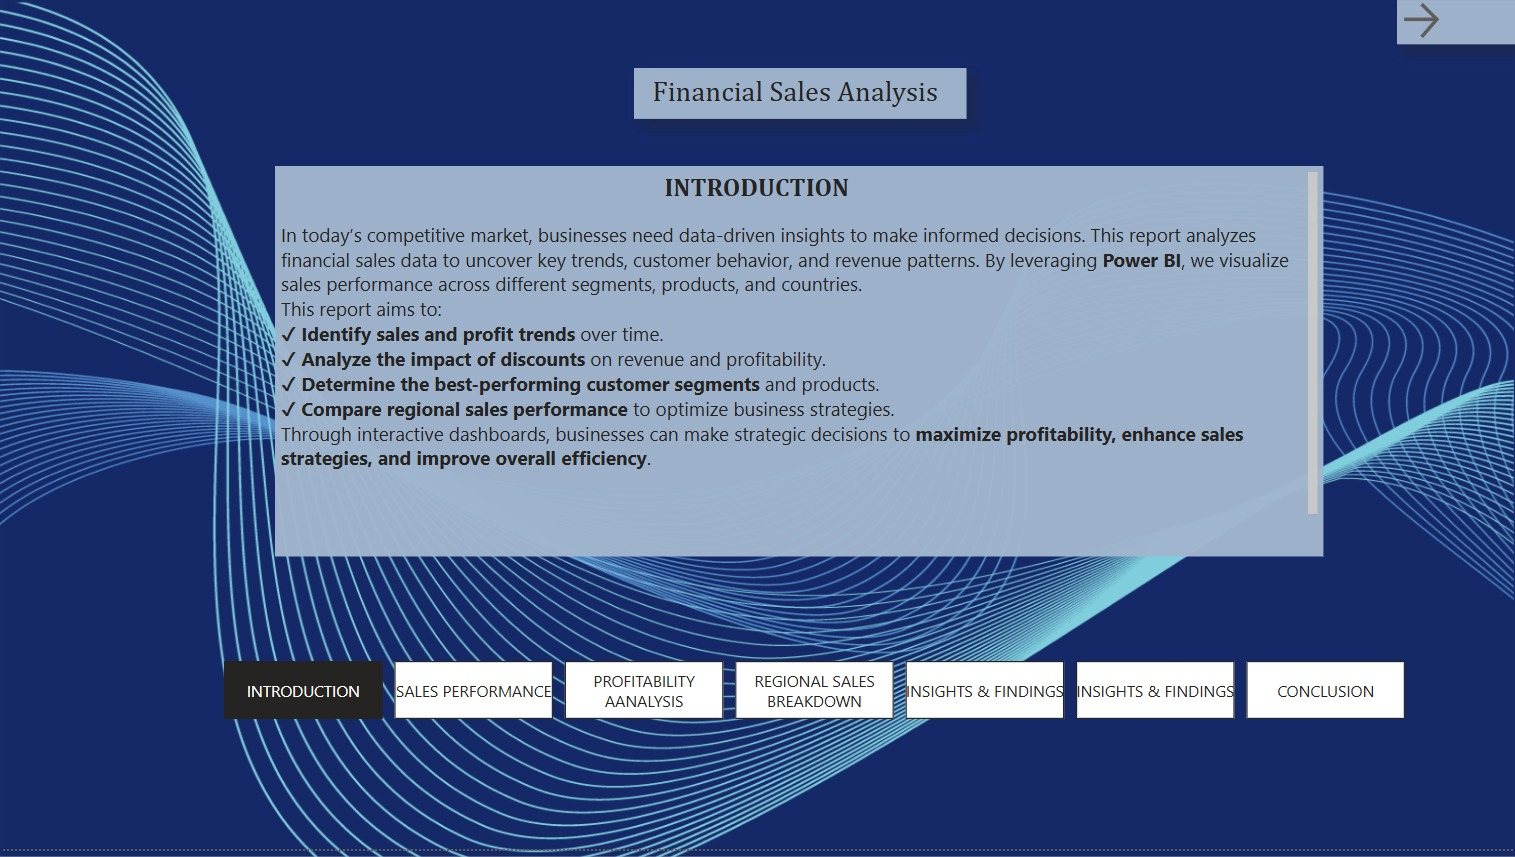

Layout of this report page (visuals, bound fields, positions):
{"tool":"powerbi","page":{"name":"INTRODUCTION","canvas":[1280,720],"ordinal":0},"visuals":[{"type":"textbox","box":[232.4,142.8,886.5,329.6],"z":0},{"type":"actionButton","box":[1180.6,0,99.7,39.7],"z":1000},{"type":"pageNavigator","box":[189.3,561.1,999.7,49.9],"z":2000},{"type":"textbox","box":[535.8,60,280.6,43.1],"z":3000}]}

Visuals, with their boxes in screenshot pixels (x1, y1, x2, y2), scaled from the page's 1280x720 canvas onto the 1515x857 screenshot:
textbox: left=275, top=170, right=1324, bottom=562
actionButton: left=1397, top=0, right=1514, bottom=47
pageNavigator: left=224, top=668, right=1407, bottom=727
textbox: left=634, top=71, right=966, bottom=123
